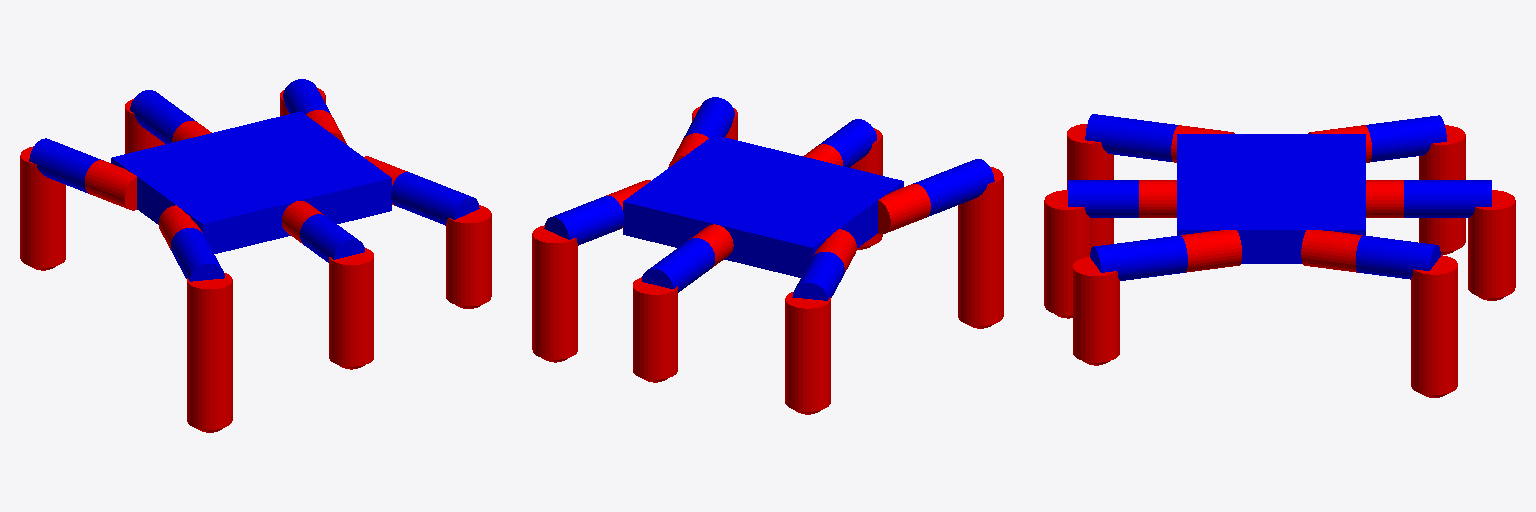
--- What the picture shows (computed from the rendered views, not written in the file) ---
Views: 3 orthographic renders of the robot side by side, from view 1: azimuth 30°, elevation 25°; view 2: azimuth 150°, elevation 25°; view 3: azimuth 270°, elevation 25°.
Robot: pexod — 19 links, 18 joints (18 revolute); root link base_link; default pose: every joint at zero.
Links seen in each view (by area): view 1: base_link, leg_5_3, leg_4_3, leg_0_3, leg_3_3, leg_3_2, leg_0_2, leg_5_2, leg_4_2, leg_0_1, leg_1_2, leg_2_2 (+3 smaller); view 2: base_link, leg_5_3, leg_2_3, leg_0_3, leg_1_3, leg_5_2, leg_2_2, leg_1_2, leg_5_1, leg_0_2, leg_4_2, leg_3_2 (+3 smaller); view 3: base_link, leg_2_3, leg_1_3, leg_3_3, leg_4_3, leg_0_3, leg_3_2, leg_1_2, leg_5_2, leg_2_2, leg_0_2, leg_5_3 (+5 smaller).
Boxes of the visible links, left/top/right/bottom form: base_link: left=111, top=111, right=391, bottom=253; leg_5_3: left=187, top=273, right=232, bottom=432; leg_4_3: left=329, top=248, right=373, bottom=369; leg_0_3: left=20, top=146, right=65, bottom=270; leg_3_3: left=446, top=205, right=491, bottom=308; leg_3_2: left=391, top=172, right=479, bottom=225; leg_0_2: left=29, top=138, right=103, bottom=193; leg_5_2: left=171, top=228, right=224, bottom=281; leg_4_2: left=300, top=214, right=364, bottom=262; leg_0_1: left=85, top=160, right=136, bottom=210; leg_1_2: left=130, top=90, right=196, bottom=143; leg_2_2: left=283, top=79, right=330, bottom=114; base_link: left=623, top=135, right=903, bottom=277; leg_5_3: left=958, top=167, right=1003, bottom=328; leg_2_3: left=532, top=225, right=577, bottom=362; leg_0_3: left=785, top=292, right=830, bottom=414; leg_1_3: left=633, top=277, right=677, bottom=382; leg_5_2: left=913, top=159, right=994, bottom=217; leg_2_2: left=544, top=196, right=623, bottom=245; leg_1_2: left=642, top=238, right=714, bottom=292; leg_5_1: left=878, top=184, right=930, bottom=233; leg_0_2: left=792, top=252, right=844, bottom=300; leg_4_2: left=816, top=119, right=876, bottom=167; leg_3_2: left=683, top=97, right=734, bottom=138; base_link: left=1177, top=134, right=1365, bottom=263; leg_2_3: left=1411, top=255, right=1457, bottom=397; leg_1_3: left=1468, top=190, right=1515, bottom=300; leg_3_3: left=1073, top=257, right=1119, bottom=365; leg_4_3: left=1044, top=190, right=1091, bottom=318; leg_0_3: left=1419, top=125, right=1465, bottom=254; leg_3_2: left=1090, top=235, right=1187, bottom=280; leg_1_2: left=1404, top=180, right=1491, bottom=217; leg_5_2: left=1085, top=114, right=1177, bottom=161; leg_2_2: left=1355, top=235, right=1440, bottom=279; leg_0_2: left=1366, top=115, right=1446, bottom=162; leg_5_3: left=1067, top=124, right=1113, bottom=246.
Size in the robot's own frame: 0.3816 by 0.4974 by 0.2027 metres.
Geometry: primitives only (box / cylinder / sphere), no mesh files.

robot.urdf — pexod:
<?xml version="1.0" ?>
<!-- =================================================================================== -->
<!-- |    This document was autogenerated by xacro from pexod.xacro                    | -->
<!-- |    EDITING THIS FILE BY HAND IS NOT RECOMMENDED                                 | -->
<!-- =================================================================================== -->
<robot name="pexod" xmlns:xacro="http://www.ros.org/wiki/xacro">
  <!-- <xacro:include filename="$(find pexod_description)/urdf/pexod_control.xacro" /> -->
  <!-- MATERIALS -->
  <material name="Blue">
    <color rgba="0 0 1 1"/>
  </material>
  <material name="Red">
    <color rgba="1 0 0 1"/>
  </material>
  <material name="Green">
    <color rgba="0 1 0 1"/>
  </material>
  <material name="Yellow">
    <color rgba="1 1 0 1"/>
  </material>
  <material name="LightGrey">
    <color rgba="0.6 0.6 0.6 1.0"/>
  </material>
  <!-- END OF MATERIALS -->
  <!-- XACRO MACROS FOR VISUALS AND COLLISIONS -->
  <!-- END OF XACRO MACROS -->
  <!-- TORSO -->
  <link name="base_link">
    <visual>
      <origin rpy="0 0 0" xyz="0 0 0"/>
      <geometry>
        <box size="0.24 0.2 0.04"/>
      </geometry>
      <material name="Blue"/>
    </visual>
    <collision>
      <origin rpy="0 0 0" xyz="0 0 0"/>
      <geometry>
        <box size="0.24 0.2 0.04"/>
      </geometry>
    </collision>
    <inertial>
      <!-- CENTER OF MASS -->
      <origin rpy="0 0 0" xyz="0 0 0"/>
      <mass value="1.031"/>
      <!-- box inertia: 1/12*m(y^2+z^2), ... -->
      <inertia ixx="0.00357413333333" ixy="0" ixz="0" iyy="0.00508626666667" iyz="0" izz="0.00838546666667"/>
    </inertial>
  </link>
  <!-- XACRO MACRO FOR LEGS LINKS/JOINTS -->
  <!-- END OF LEG LINKS/JOINTS -->
  <joint name="body_leg_2" type="revolute">
    <parent link="base_link"/>
    <child link="leg_2_1"/>
    <limit effort="30.0" lower="-1.57079632679" upper="1.57079632679" velocity="7.0"/>
    <origin rpy="0 0 -0.3" xyz="0.11 0.04 0"/>
    <!-- <xacro:if value="${index == 5 or index == 4 or index == 3}">
                <axis xyz="0 0 1"/>
            </xacro:if>
            <xacro:if value="${index == 2 or index == 1 or index == 0}"> -->
    <axis xyz="0 0 1"/>
    <!-- </xacro:if> -->
    <dynamics damping="0.0"/>
  </joint>
  <link name="leg_2_1">
    <visual>
      <origin rpy="1.57079632679 0 0" xyz="0.01 0.03 0"/>
      <geometry>
        <cylinder length="0.06" radius="0.02"/>
      </geometry>
      <material name="Red"/>
    </visual>
    <collision>
      <origin rpy="1.57079632679 0 0" xyz="0.01 0.03 0"/>
      <geometry>
        <box size="0.02 0.02 0.06"/>
      </geometry>
    </collision>
    <inertial>
      <!-- CENTER OF MASS -->
      <origin rpy="1.57079632679 0 0" xyz="0.01 0.03 0"/>
      <mass value="0.02"/>
      <!-- box inertia: 1/12*m(y^2+z^2), ... -->
      <inertia ixx="6.66666666667e-06" ixy="0" ixz="0" iyy="6.66666666667e-06" iyz="0" izz="1.33333333333e-06"/>
    </inertial>
  </link>
  <joint name="leg_2_1_2" type="revolute">
    <parent link="leg_2_1"/>
    <child link="leg_2_2"/>
    <limit effort="30.0" lower="-0.78539816339" upper="0.78539816339" velocity="7.0"/>
    <origin rpy="0 0 0" xyz="0 0.06 0"/>
    <axis xyz="1 0 0"/>
    <dynamics damping="0.0"/>
  </joint>
  <link name="leg_2_2">
    <visual>
      <origin rpy="1.57079632679 0 0" xyz="0.01 0.0409612754586 0"/>
      <geometry>
        <cylinder length="0.0819225509173" radius="0.02"/>
      </geometry>
      <material name="Blue"/>
    </visual>
    <collision>
      <origin rpy="1.57079632679 0 0" xyz="0.01 0.0409612754586 0"/>
      <geometry>
        <box size="0.02 0.02 0.0819225509173"/>
      </geometry>
    </collision>
    <inertial>
      <!-- CENTER OF MASS -->
      <origin rpy="1.57079632679 0 0" xyz="0.01 0.0409612754586 0"/>
      <mass value="0.184"/>
      <!-- box inertia: 1/12*m(y^2+z^2), ... -->
      <inertia ixx="0.000109040000015" ixy="0" ixz="0" iyy="0.000109040000015" iyz="0" izz="1.22666666667e-05"/>
    </inertial>
  </link>
  <joint name="leg_2_2_3" type="revolute">
    <parent link="leg_2_2"/>
    <child link="leg_2_3"/>
    <limit effort="30.0" lower="-0.78539816339" upper="0.78539816339" velocity="7.0"/>
    <origin rpy="-1.57079632679 0 0" xyz="0 0.0819225509173 0"/>
    <axis xyz="-1 0 0"/>
    <dynamics damping="0.0"/>
  </joint>
  <link name="leg_2_3">
    <visual>
      <origin rpy="1.57079632679 0 0" xyz="0.0125 0.070241303137 0"/>
      <geometry>
        <cylinder length="0.140482606274" radius="0.025"/>
      </geometry>
      <material name="Red"/>
    </visual>
    <visual>
      <origin rpy="1.57079632679 0 0" xyz="0.0125 0.127982606274 0"/>
      <geometry>
        <sphere radius="0.025"/>
      </geometry>
      <material name="Red"/>
    </visual>
    <collision>
      <origin rpy="1.57079632679 0 0" xyz="0.0125 0.070241303137 0"/>
      <geometry>
        <box size="0.025 0.025 0.140482606274"/>
      </geometry>
    </collision>
    <collision>
      <origin rpy="1.57079632679 0 0" xyz="0.0125 0.127982606274 0"/>
      <geometry>
        <sphere radius="0.025"/>
      </geometry>
      <material name="Red"/>
    </collision>
    <inertial>
      <!-- CENTER OF MASS -->
      <origin rpy="1.57079632679 0 0" xyz="0.0125 0.070241303137 0"/>
      <mass value="0.04"/>
      <!-- box inertia: 1/12*m(y^2+z^2), ... -->
      <inertia ixx="6.78678755518e-05" ixy="0" ixz="0" iyy="6.78678755518e-05" iyz="0" izz="4.16666666667e-06"/>
    </inertial>
  </link>
  <joint name="body_leg_3" type="revolute">
    <parent link="base_link"/>
    <child link="leg_3_1"/>
    <limit effort="30.0" lower="-1.57079632679" upper="1.57079632679" velocity="7.0"/>
    <origin rpy="0 0 0.3" xyz="0.11 -0.04 0"/>
    <!-- <xacro:if value="${index == 5 or index == 4 or index == 3}">
                <axis xyz="0 0 1"/>
            </xacro:if>
            <xacro:if value="${index == 2 or index == 1 or index == 0}"> -->
    <axis xyz="0 0 1"/>
    <!-- </xacro:if> -->
    <dynamics damping="0.0"/>
  </joint>
  <link name="leg_3_1">
    <visual>
      <origin rpy="1.57079632679 0 0" xyz="0.01 -0.03 0"/>
      <geometry>
        <cylinder length="0.06" radius="0.02"/>
      </geometry>
      <material name="Red"/>
    </visual>
    <collision>
      <origin rpy="1.57079632679 0 0" xyz="0.01 -0.03 0"/>
      <geometry>
        <box size="0.02 0.02 0.06"/>
      </geometry>
    </collision>
    <inertial>
      <!-- CENTER OF MASS -->
      <origin rpy="1.57079632679 0 0" xyz="0.01 -0.03 0"/>
      <mass value="0.02"/>
      <!-- box inertia: 1/12*m(y^2+z^2), ... -->
      <inertia ixx="6.66666666667e-06" ixy="0" ixz="0" iyy="6.66666666667e-06" iyz="0" izz="1.33333333333e-06"/>
    </inertial>
  </link>
  <joint name="leg_3_1_2" type="revolute">
    <parent link="leg_3_1"/>
    <child link="leg_3_2"/>
    <limit effort="30.0" lower="-0.78539816339" upper="0.78539816339" velocity="7.0"/>
    <origin rpy="0 0 0" xyz="0 -0.06 0"/>
    <axis xyz="-1 0 0"/>
    <dynamics damping="0.0"/>
  </joint>
  <link name="leg_3_2">
    <visual>
      <origin rpy="1.57079632679 0 0" xyz="0.01 -0.0478898578856 0"/>
      <geometry>
        <cylinder length="0.0957797157713" radius="0.02"/>
      </geometry>
      <material name="Blue"/>
    </visual>
    <collision>
      <origin rpy="1.57079632679 0 0" xyz="0.01 -0.0478898578856 0"/>
      <geometry>
        <box size="0.02 0.02 0.0957797157713"/>
      </geometry>
    </collision>
    <inertial>
      <!-- CENTER OF MASS -->
      <origin rpy="1.57079632679 0 0" xyz="0.01 -0.0478898578856 0"/>
      <mass value="0.184"/>
      <!-- box inertia: 1/12*m(y^2+z^2), ... -->
      <inertia ixx="0.000146797560616" ixy="0" ixz="0" iyy="0.000146797560616" iyz="0" izz="1.22666666667e-05"/>
    </inertial>
  </link>
  <joint name="leg_3_2_3" type="revolute">
    <parent link="leg_3_2"/>
    <child link="leg_3_3"/>
    <limit effort="30.0" lower="-0.78539816339" upper="0.78539816339" velocity="7.0"/>
    <origin rpy="1.57079632679 0 0" xyz="0 -0.0957797157713 0"/>
    <axis xyz="1 0 0"/>
    <dynamics damping="0.0"/>
  </joint>
  <link name="leg_3_3">
    <visual>
      <origin rpy="1.57079632679 0 0" xyz="0.0125 -0.0503232968005 0"/>
      <geometry>
        <cylinder length="0.100646593601" radius="0.025"/>
      </geometry>
      <material name="Red"/>
    </visual>
    <visual>
      <origin rpy="1.57079632679 0 0" xyz="0.0125 -0.088146593601 0"/>
      <geometry>
        <sphere radius="0.025"/>
      </geometry>
      <material name="Red"/>
    </visual>
    <collision>
      <origin rpy="1.57079632679 0 0" xyz="0.0125 -0.0503232968005 0"/>
      <geometry>
        <box size="0.025 0.025 0.100646593601"/>
      </geometry>
    </collision>
    <collision>
      <origin rpy="1.57079632679 0 0" xyz="0.0125 -0.088146593601 0"/>
      <geometry>
        <sphere radius="0.025"/>
      </geometry>
      <material name="Red"/>
    </collision>
    <inertial>
      <!-- CENTER OF MASS -->
      <origin rpy="1.57079632679 0 0" xyz="0.0125 -0.0503232968005 0"/>
      <mass value="0.04"/>
      <!-- box inertia: 1/12*m(y^2+z^2), ... -->
      <inertia ixx="3.58491226783e-05" ixy="0" ixz="0" iyy="3.58491226783e-05" iyz="0" izz="4.16666666667e-06"/>
    </inertial>
  </link>
  <joint name="body_leg_0" type="revolute">
    <parent link="base_link"/>
    <child link="leg_0_1"/>
    <limit effort="30.0" lower="-1.57079632679" upper="1.57079632679" velocity="7.0"/>
    <origin rpy="0 0 0.3" xyz="-0.13 0.04 0"/>
    <!-- <xacro:if value="${index == 5 or index == 4 or index == 3}">
                <axis xyz="0 0 1"/>
            </xacro:if>
            <xacro:if value="${index == 2 or index == 1 or index == 0}"> -->
    <axis xyz="0 0 1"/>
    <!-- </xacro:if> -->
    <dynamics damping="0.0"/>
  </joint>
  <link name="leg_0_1">
    <visual>
      <origin rpy="1.57079632679 0 0" xyz="0.01 0.03 0"/>
      <geometry>
        <cylinder length="0.06" radius="0.02"/>
      </geometry>
      <material name="Red"/>
    </visual>
    <collision>
      <origin rpy="1.57079632679 0 0" xyz="0.01 0.03 0"/>
      <geometry>
        <box size="0.02 0.02 0.06"/>
      </geometry>
    </collision>
    <inertial>
      <!-- CENTER OF MASS -->
      <origin rpy="1.57079632679 0 0" xyz="0.01 0.03 0"/>
      <mass value="0.02"/>
      <!-- box inertia: 1/12*m(y^2+z^2), ... -->
      <inertia ixx="6.66666666667e-06" ixy="0" ixz="0" iyy="6.66666666667e-06" iyz="0" izz="1.33333333333e-06"/>
    </inertial>
  </link>
  <joint name="leg_0_1_2" type="revolute">
    <parent link="leg_0_1"/>
    <child link="leg_0_2"/>
    <limit effort="30.0" lower="-0.78539816339" upper="0.78539816339" velocity="7.0"/>
    <origin rpy="0 0 0" xyz="0 0.06 0"/>
    <axis xyz="1 0 0"/>
    <dynamics damping="0.0"/>
  </joint>
  <link name="leg_0_2">
    <visual>
      <origin rpy="1.57079632679 0 0" xyz="0.01 0.0412983518236 0"/>
      <geometry>
        <cylinder length="0.0825967036473" radius="0.02"/>
      </geometry>
      <material name="Blue"/>
    </visual>
    <collision>
      <origin rpy="1.57079632679 0 0" xyz="0.01 0.0412983518236 0"/>
      <geometry>
        <box size="0.02 0.02 0.0825967036473"/>
      </geometry>
    </collision>
    <inertial>
      <!-- CENTER OF MASS -->
      <origin rpy="1.57079632679 0 0" xyz="0.01 0.0412983518236 0"/>
      <mass value="0.184"/>
      <!-- box inertia: 1/12*m(y^2+z^2), ... -->
      <inertia ixx="0.000110740636952" ixy="0" ixz="0" iyy="0.000110740636952" iyz="0" izz="1.22666666667e-05"/>
    </inertial>
  </link>
  <joint name="leg_0_2_3" type="revolute">
    <parent link="leg_0_2"/>
    <child link="leg_0_3"/>
    <limit effort="30.0" lower="-0.78539816339" upper="0.78539816339" velocity="7.0"/>
    <origin rpy="-1.57079632679 0 0" xyz="0 0.0825967036473 0"/>
    <axis xyz="-1 0 0"/>
    <dynamics damping="0.0"/>
  </joint>
  <link name="leg_0_3">
    <visual>
      <origin rpy="1.57079632679 0 0" xyz="0.0125 0.0623694355795 0"/>
      <geometry>
        <cylinder length="0.124738871159" radius="0.025"/>
      </geometry>
      <material name="Red"/>
    </visual>
    <visual>
      <origin rpy="1.57079632679 0 0" xyz="0.0125 0.112238871159 0"/>
      <geometry>
        <sphere radius="0.025"/>
      </geometry>
      <material name="Red"/>
    </visual>
    <collision>
      <origin rpy="1.57079632679 0 0" xyz="0.0125 0.0623694355795 0"/>
      <geometry>
        <box size="0.025 0.025 0.124738871159"/>
      </geometry>
    </collision>
    <collision>
      <origin rpy="1.57079632679 0 0" xyz="0.0125 0.112238871159 0"/>
      <geometry>
        <sphere radius="0.025"/>
      </geometry>
      <material name="Red"/>
    </collision>
    <inertial>
      <!-- CENTER OF MASS -->
      <origin rpy="1.57079632679 0 0" xyz="0.0125 0.0623694355795 0"/>
      <mass value="0.04"/>
      <!-- box inertia: 1/12*m(y^2+z^2), ... -->
      <inertia ixx="5.39492865934e-05" ixy="0" ixz="0" iyy="5.39492865934e-05" iyz="0" izz="4.16666666667e-06"/>
    </inertial>
  </link>
  <joint name="body_leg_5" type="revolute">
    <parent link="base_link"/>
    <child link="leg_5_1"/>
    <limit effort="30.0" lower="-1.57079632679" upper="1.57079632679" velocity="7.0"/>
    <origin rpy="0 0 -0.3" xyz="-0.13 -0.04 0"/>
    <!-- <xacro:if value="${index == 5 or index == 4 or index == 3}">
                <axis xyz="0 0 1"/>
            </xacro:if>
            <xacro:if value="${index == 2 or index == 1 or index == 0}"> -->
    <axis xyz="0 0 1"/>
    <!-- </xacro:if> -->
    <dynamics damping="0.0"/>
  </joint>
  <link name="leg_5_1">
    <visual>
      <origin rpy="1.57079632679 0 0" xyz="0.01 -0.03 0"/>
      <geometry>
        <cylinder length="0.06" radius="0.02"/>
      </geometry>
      <material name="Red"/>
    </visual>
    <collision>
      <origin rpy="1.57079632679 0 0" xyz="0.01 -0.03 0"/>
      <geometry>
        <box size="0.02 0.02 0.06"/>
      </geometry>
    </collision>
    <inertial>
      <!-- CENTER OF MASS -->
      <origin rpy="1.57079632679 0 0" xyz="0.01 -0.03 0"/>
      <mass value="0.02"/>
      <!-- box inertia: 1/12*m(y^2+z^2), ... -->
      <inertia ixx="6.66666666667e-06" ixy="0" ixz="0" iyy="6.66666666667e-06" iyz="0" izz="1.33333333333e-06"/>
    </inertial>
  </link>
  <joint name="leg_5_1_2" type="revolute">
    <parent link="leg_5_1"/>
    <child link="leg_5_2"/>
    <limit effort="30.0" lower="-0.78539816339" upper="0.78539816339" velocity="7.0"/>
    <origin rpy="0 0 0" xyz="0 -0.06 0"/>
    <axis xyz="-1 0 0"/>
    <dynamics damping="0.0"/>
  </joint>
  <link name="leg_5_2">
    <visual>
      <origin rpy="1.57079632679 0 0" xyz="0.01 -0.0474633649779 0"/>
      <geometry>
        <cylinder length="0.0949267299559" radius="0.02"/>
      </geometry>
      <material name="Blue"/>
    </visual>
    <collision>
      <origin rpy="1.57079632679 0 0" xyz="0.01 -0.0474633649779 0"/>
      <geometry>
        <box size="0.02 0.02 0.0949267299559"/>
      </geometry>
    </collision>
    <inertial>
      <!-- CENTER OF MASS -->
      <origin rpy="1.57079632679 0 0" xyz="0.01 -0.0474633649779 0"/>
      <mass value="0.184"/>
      <!-- box inertia: 1/12*m(y^2+z^2), ... -->
      <inertia ixx="0.000144303288922" ixy="0" ixz="0" iyy="0.000144303288922" iyz="0" izz="1.22666666667e-05"/>
    </inertial>
  </link>
  <joint name="leg_5_2_3" type="revolute">
    <parent link="leg_5_2"/>
    <child link="leg_5_3"/>
    <limit effort="30.0" lower="-0.78539816339" upper="0.78539816339" velocity="7.0"/>
    <origin rpy="1.57079632679 0 0" xyz="0 -0.0949267299559 0"/>
    <axis xyz="1 0 0"/>
    <dynamics damping="0.0"/>
  </joint>
  <link name="leg_5_3">
    <visual>
      <origin rpy="1.57079632679 0 0" xyz="0.0125 -0.0851077598425 0"/>
      <geometry>
        <cylinder length="0.170215519685" radius="0.025"/>
      </geometry>
      <material name="Red"/>
    </visual>
    <visual>
      <origin rpy="1.57079632679 0 0" xyz="0.0125 -0.157715519685 0"/>
      <geometry>
        <sphere radius="0.025"/>
      </geometry>
      <material name="Red"/>
    </visual>
    <collision>
      <origin rpy="1.57079632679 0 0" xyz="0.0125 -0.0851077598425 0"/>
      <geometry>
        <box size="0.025 0.025 0.170215519685"/>
      </geometry>
    </collision>
    <collision>
      <origin rpy="1.57079632679 0 0" xyz="0.0125 -0.157715519685 0"/>
      <geometry>
        <sphere radius="0.025"/>
      </geometry>
      <material name="Red"/>
    </collision>
    <inertial>
      <!-- CENTER OF MASS -->
      <origin rpy="1.57079632679 0 0" xyz="0.0125 -0.0851077598425 0"/>
      <mass value="0.04"/>
      <!-- box inertia: 1/12*m(y^2+z^2), ... -->
      <inertia ixx="9.86610771388e-05" ixy="0" ixz="0" iyy="9.86610771388e-05" iyz="0" izz="4.16666666667e-06"/>
    </inertial>
  </link>
  <joint name="body_leg_1" type="revolute">
    <parent link="base_link"/>
    <child link="leg_1_1"/>
    <limit effort="30.0" lower="-1.57079632679" upper="1.57079632679" velocity="7.0"/>
    <origin rpy="0 0 0" xyz="-0.01 0.08 0"/>
    <!-- <xacro:if value="${index == 5 or index == 4 or index == 3}">
                <axis xyz="0 0 1"/>
            </xacro:if>
            <xacro:if value="${index == 2 or index == 1 or index == 0}"> -->
    <axis xyz="0 0 1"/>
    <!-- </xacro:if> -->
    <dynamics damping="0.0"/>
  </joint>
  <link name="leg_1_1">
    <visual>
      <origin rpy="1.57079632679 0 0" xyz="0.01 0.03 0"/>
      <geometry>
        <cylinder length="0.06" radius="0.02"/>
      </geometry>
      <material name="Red"/>
    </visual>
    <collision>
      <origin rpy="1.57079632679 0 0" xyz="0.01 0.03 0"/>
      <geometry>
        <box size="0.02 0.02 0.06"/>
      </geometry>
    </collision>
    <inertial>
      <!-- CENTER OF MASS -->
      <origin rpy="1.57079632679 0 0" xyz="0.01 0.03 0"/>
      <mass value="0.02"/>
      <!-- box inertia: 1/12*m(y^2+z^2), ... -->
      <inertia ixx="6.66666666667e-06" ixy="0" ixz="0" iyy="6.66666666667e-06" iyz="0" izz="1.33333333333e-06"/>
    </inertial>
  </link>
  <joint name="leg_1_1_2" type="revolute">
    <parent link="leg_1_1"/>
    <child link="leg_1_2"/>
    <limit effort="30.0" lower="-0.78539816339" upper="0.78539816339" velocity="7.0"/>
    <origin rpy="0 0 0" xyz="0 0.06 0"/>
    <axis xyz="1 0 0"/>
    <dynamics damping="0.0"/>
  </joint>
  <link name="leg_1_2">
    <visual>
      <origin rpy="1.57079632679 0 0" xyz="0.01 0.0462273670183 0"/>
      <geometry>
        <cylinder length="0.0924547340366" radius="0.02"/>
      </geometry>
      <material name="Blue"/>
    </visual>
    <collision>
      <origin rpy="1.57079632679 0 0" xyz="0.01 0.0462273670183 0"/>
      <geometry>
        <box size="0.02 0.02 0.0924547340366"/>
      </geometry>
    </collision>
    <inertial>
      <!-- CENTER OF MASS -->
      <origin rpy="1.57079632679 0 0" xyz="0.01 0.0462273670183 0"/>
      <mass value="0.184"/>
      <!-- box inertia: 1/12*m(y^2+z^2), ... -->
      <inertia ixx="0.000137200793635" ixy="0" ixz="0" iyy="0.000137200793635" iyz="0" izz="1.22666666667e-05"/>
    </inertial>
  </link>
  <joint name="leg_1_2_3" type="revolute">
    <parent link="leg_1_2"/>
    <child link="leg_1_3"/>
    <limit effort="30.0" lower="-0.78539816339" upper="0.78539816339" velocity="7.0"/>
    <origin rpy="-1.57079632679 0 0" xyz="0 0.0924547340366 0"/>
    <axis xyz="-1 0 0"/>
    <dynamics damping="0.0"/>
  </joint>
  <link name="leg_1_3">
    <visual>
      <origin rpy="1.57079632679 0 0" xyz="0.0125 0.0513381519185 0"/>
      <geometry>
        <cylinder length="0.102676303837" radius="0.025"/>
      </geometry>
      <material name="Red"/>
    </visual>
    <visual>
      <origin rpy="1.57079632679 0 0" xyz="0.0125 0.090176303837 0"/>
      <geometry>
        <sphere radius="0.025"/>
      </geometry>
      <material name="Red"/>
    </visual>
    <collision>
      <origin rpy="1.57079632679 0 0" xyz="0.0125 0.0513381519185 0"/>
      <geometry>
        <box size="0.025 0.025 0.102676303837"/>
      </geometry>
    </collision>
    <collision>
      <origin rpy="1.57079632679 0 0" xyz="0.0125 0.090176303837 0"/>
      <geometry>
        <sphere radius="0.025"/>
      </geometry>
      <material name="Red"/>
    </collision>
    <inertial>
      <!-- CENTER OF MASS -->
      <origin rpy="1.57079632679 0 0" xyz="0.0125 0.0513381519185 0"/>
      <mass value="0.04"/>
      <!-- box inertia: 1/12*m(y^2+z^2), ... -->
      <inertia ixx="3.72247445654e-05" ixy="0" ixz="0" iyy="3.72247445654e-05" iyz="0" izz="4.16666666667e-06"/>
    </inertial>
  </link>
  <joint name="body_leg_4" type="revolute">
    <parent link="base_link"/>
    <child link="leg_4_1"/>
    <limit effort="30.0" lower="-1.57079632679" upper="1.57079632679" velocity="7.0"/>
    <origin rpy="0 0 0" xyz="-0.01 -0.08 0"/>
    <!-- <xacro:if value="${index == 5 or index == 4 or index == 3}">
                <axis xyz="0 0 1"/>
            </xacro:if>
            <xacro:if value="${index == 2 or index == 1 or index == 0}"> -->
    <axis xyz="0 0 1"/>
    <!-- </xacro:if> -->
    <dynamics damping="0.0"/>
  </joint>
  <link name="leg_4_1">
    <visual>
      <origin rpy="1.57079632679 0 0" xyz="0.01 -0.03 0"/>
      <geometry>
        <cylinder length="0.06" radius="0.02"/>
      </geometry>
      <material name="Red"/>
    </visual>
    <collision>
      <origin rpy="1.57079632679 0 0" xyz="0.01 -0.03 0"/>
      <geometry>
        <box size="0.02 0.02 0.06"/>
      </geometry>
    </collision>
    <inertial>
      <!-- CENTER OF MASS -->
      <origin rpy="1.57079632679 0 0" xyz="0.01 -0.03 0"/>
      <mass value="0.02"/>
      <!-- box inertia: 1/12*m(y^2+z^2), ... -->
      <inertia ixx="6.66666666667e-06" ixy="0" ixz="0" iyy="6.66666666667e-06" iyz="0" izz="1.33333333333e-06"/>
    </inertial>
  </link>
  <joint name="leg_4_1_2" type="revolute">
    <parent link="leg_4_1"/>
    <child link="leg_4_2"/>
    <limit effort="30.0" lower="-0.78539816339" upper="0.78539816339" velocity="7.0"/>
    <origin rpy="0 0 0" xyz="0 -0.06 0"/>
    <axis xyz="-1 0 0"/>
    <dynamics damping="0.0"/>
  </joint>
  <link name="leg_4_2">
    <visual>
      <origin rpy="1.57079632679 0 0" xyz="0.01 -0.0374847316638 0"/>
      <geometry>
        <cylinder length="0.0749694633276" radius="0.02"/>
      </geometry>
      <material name="Blue"/>
    </visual>
    <collision>
      <origin rpy="1.57079632679 0 0" xyz="0.01 -0.0374847316638 0"/>
      <geometry>
        <box size="0.02 0.02 0.0749694633276"/>
      </geometry>
    </collision>
    <inertial>
      <!-- CENTER OF MASS -->
      <origin rpy="1.57079632679 0 0" xyz="0.01 -0.0374847316638 0"/>
      <mass value="0.184"/>
      <!-- box inertia: 1/12*m(y^2+z^2), ... -->
      <inertia ixx="9.2313113285e-05" ixy="0" ixz="0" iyy="9.2313113285e-05" iyz="0" izz="1.22666666667e-05"/>
    </inertial>
  </link>
  <joint name="leg_4_2_3" type="revolute">
    <parent link="leg_4_2"/>
    <child link="leg_4_3"/>
    <limit effort="30.0" lower="-0.78539816339" upper="0.78539816339" velocity="7.0"/>
    <origin rpy="1.57079632679 0 0" xyz="0 -0.0749694633276 0"/>
    <axis xyz="1 0 0"/>
    <dynamics damping="0.0"/>
  </joint>
  <link name="leg_4_3">
    <visual>
      <origin rpy="1.57079632679 0 0" xyz="0.0125 -0.0614740370005 0"/>
      <geometry>
        <cylinder length="0.122948074001" radius="0.025"/>
      </geometry>
      <material name="Red"/>
    </visual>
    <visual>
      <origin rpy="1.57079632679 0 0" xyz="0.0125 -0.110448074001 0"/>
      <geometry>
        <sphere radius="0.025"/>
      </geometry>
      <material name="Red"/>
    </visual>
    <collision>
      <origin rpy="1.57079632679 0 0" xyz="0.0125 -0.0614740370005 0"/>
      <geometry>
        <box size="0.025 0.025 0.122948074001"/>
      </geometry>
    </collision>
    <collision>
      <origin rpy="1.57079632679 0 0" xyz="0.0125 -0.110448074001 0"/>
      <geometry>
        <sphere radius="0.025"/>
      </geometry>
      <material name="Red"/>
    </collision>
    <inertial>
      <!-- CENTER OF MASS -->
      <origin rpy="1.57079632679 0 0" xyz="0.0125 -0.0614740370005 0"/>
      <mass value="0.04"/>
      <!-- box inertia: 1/12*m(y^2+z^2), ... -->
      <inertia ixx="5.24707630019e-05" ixy="0" ixz="0" iyy="5.24707630019e-05" iyz="0" izz="4.16666666667e-06"/>
    </inertial>
  </link>
  <!-- END OF LEG LINKS/JOINTS -->
</robot>
